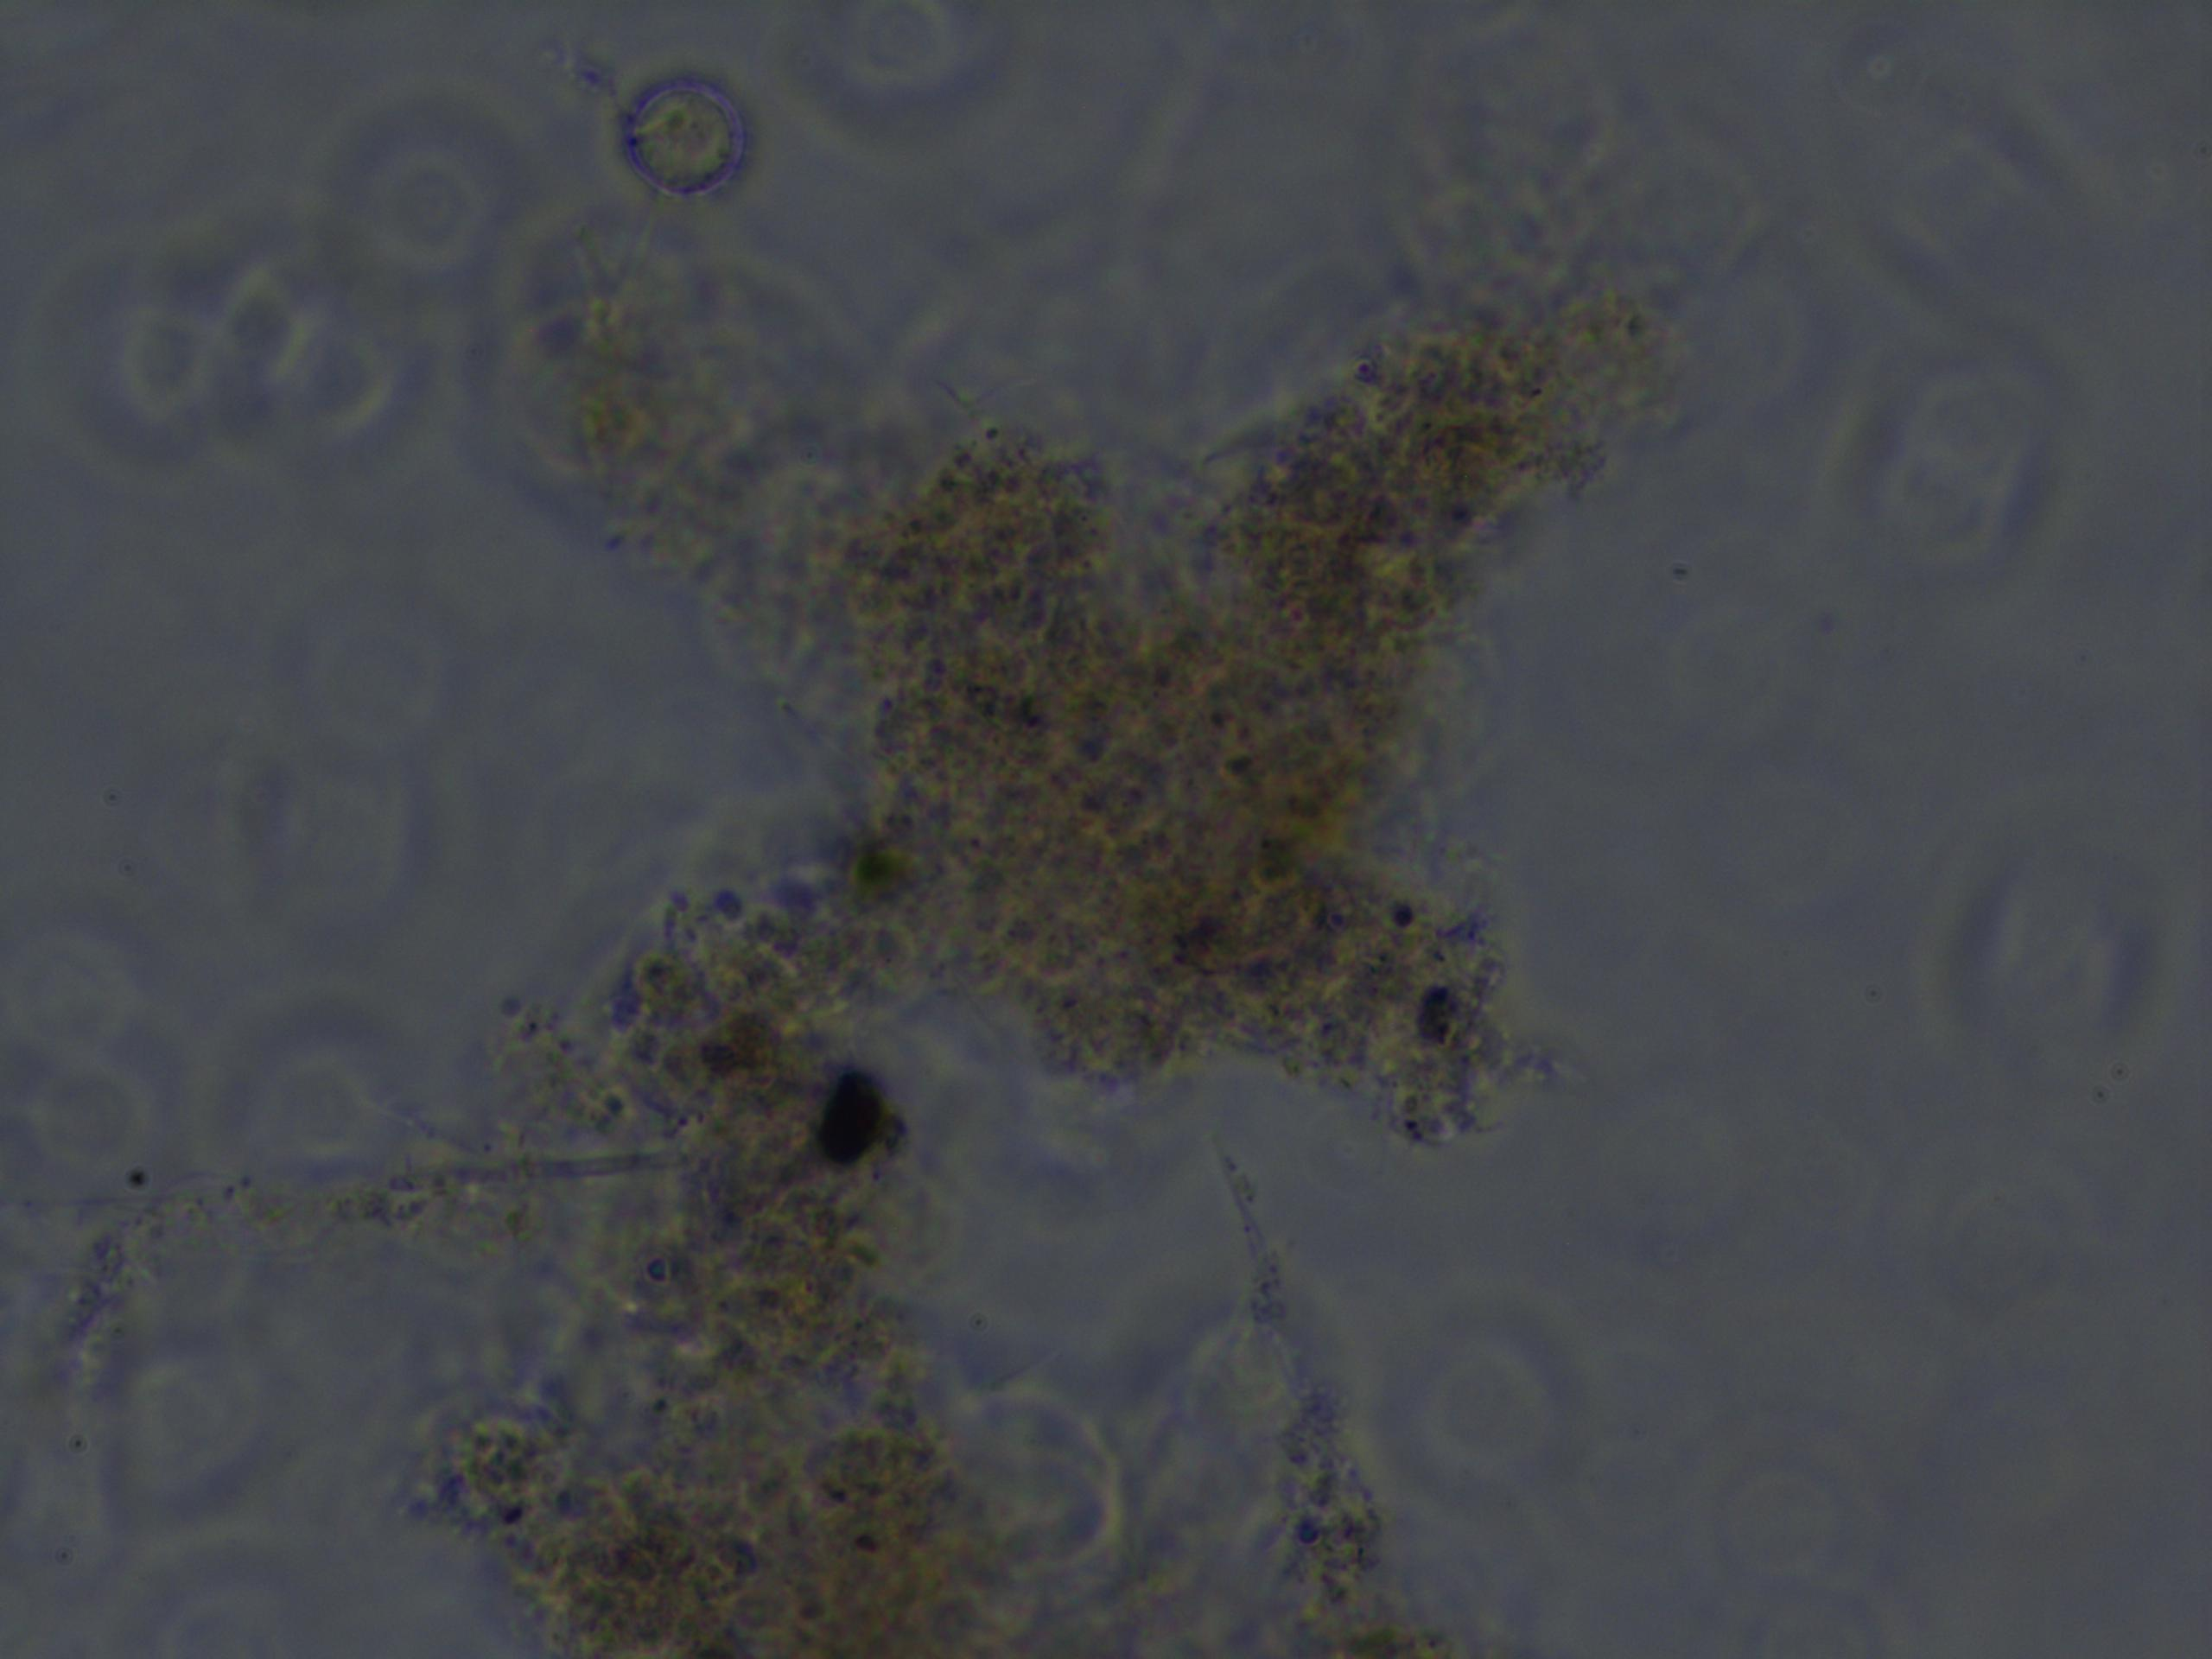filament: (1209, 1154, 1426, 1659), (24, 1131, 678, 1241)
open_floc: (435, 247, 1677, 1659)
